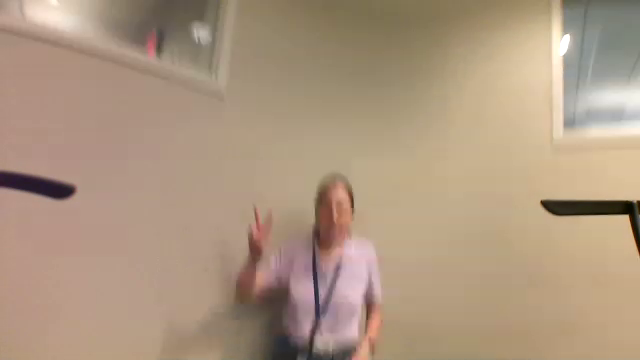peace: (243, 199, 278, 254)
